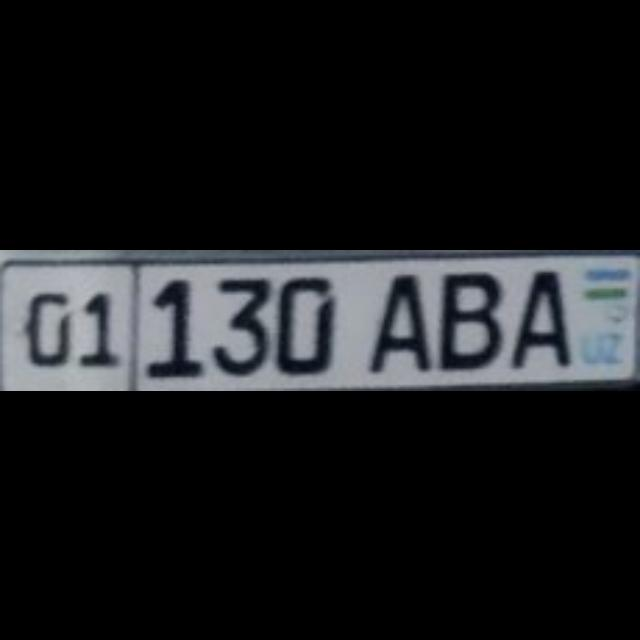0: (273, 274, 331, 372), (25, 288, 67, 364)
1: (142, 274, 198, 374), (77, 288, 116, 364)
3: (209, 274, 267, 372)
A: (509, 266, 567, 366), (368, 272, 426, 368)
B: (437, 268, 501, 366)
